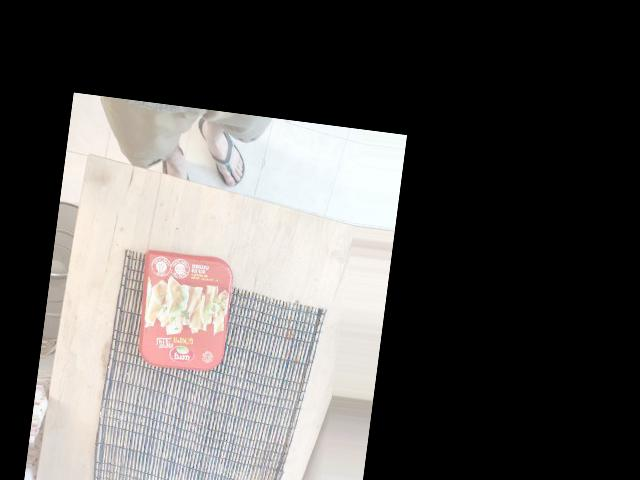cheese: (179, 296, 309, 405)
